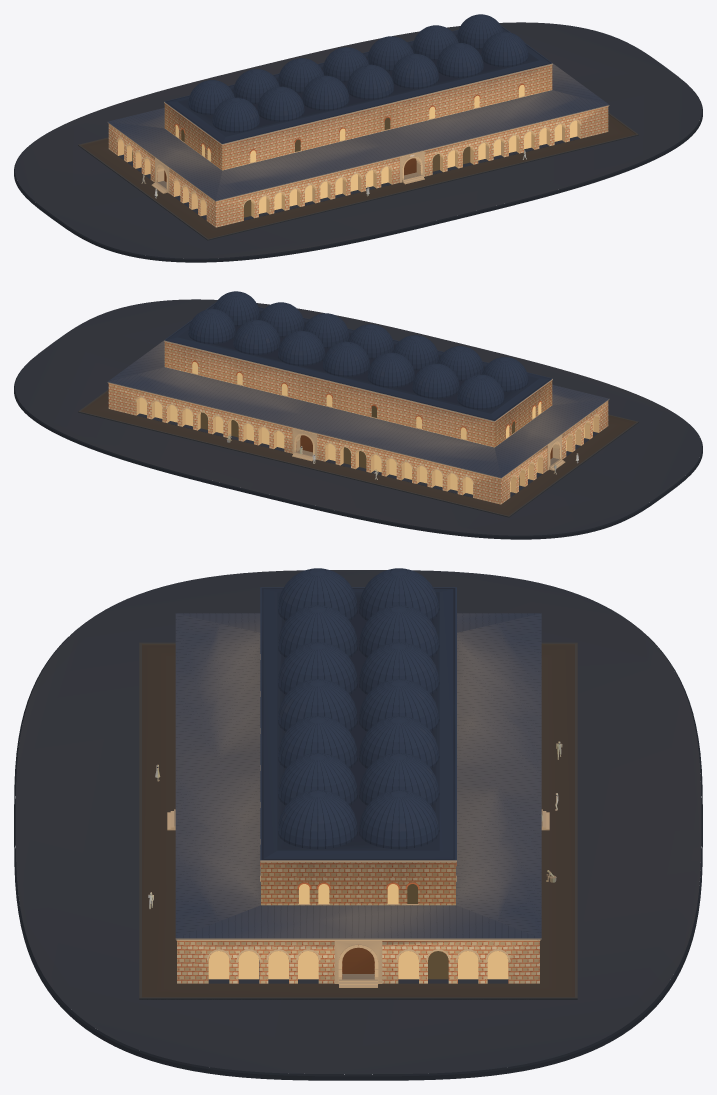
The model's file is bedesten_v11_night_sunum.glb.
3 views of the same model, one above another, from view 1: azimuth 30°, elevation 25°; view 2: azimuth 150°, elevation 25°; view 3: azimuth 270°, elevation 25° (orthographic). The views are drawn at different scales.
Parts seen in each view (by area): view 1: Zemin, Dukkanlar, Kubbeler, Govde, Zemin_Serit, Govde_Ortu, Zemin_Bordur, Kapilar; view 2: Zemin, Dukkanlar, Kubbeler, Govde, Zemin_Serit, Govde_Ortu, Zemin_Bordur, Kapilar; view 3: Zemin, Dukkanlar, Kubbeler, Zemin_Serit, Govde_Ortu, Govde, Zemin_Bordur, Kapilar.
Part boxes in pixels (x1,y1,x2,y2): Zemin: [14, 22, 702, 262]; Dukkanlar: [107, 25, 609, 227]; Kubbeler: [188, 14, 528, 132]; Govde: [164, 26, 552, 170]; Zemin_Serit: [81, 114, 635, 238]; Govde_Ortu: [167, 28, 549, 142]; Zemin_Bordur: [78, 112, 638, 240]; Kapilar: [151, 151, 424, 193]; Zemin: [14, 299, 702, 539]; Dukkanlar: [107, 302, 609, 504]; Kubbeler: [188, 291, 528, 409]; Govde: [164, 303, 552, 447]; Zemin_Serit: [81, 391, 635, 515]; Govde_Ortu: [167, 305, 549, 419]; Zemin_Bordur: [78, 389, 638, 517]; Kapilar: [292, 428, 565, 470]; Zemin: [14, 570, 702, 1080]; Dukkanlar: [175, 587, 541, 983]; Kubbeler: [278, 568, 439, 849]; Zemin_Serit: [142, 645, 577, 999]; Govde_Ortu: [263, 589, 453, 858]; Govde: [260, 588, 456, 905]; Zemin_Bordur: [139, 642, 577, 999]; Kapilar: [167, 809, 549, 987].
Size of the model in its own units: 110 by 14.8 by 63.63.
26 materials, 5 textured.
